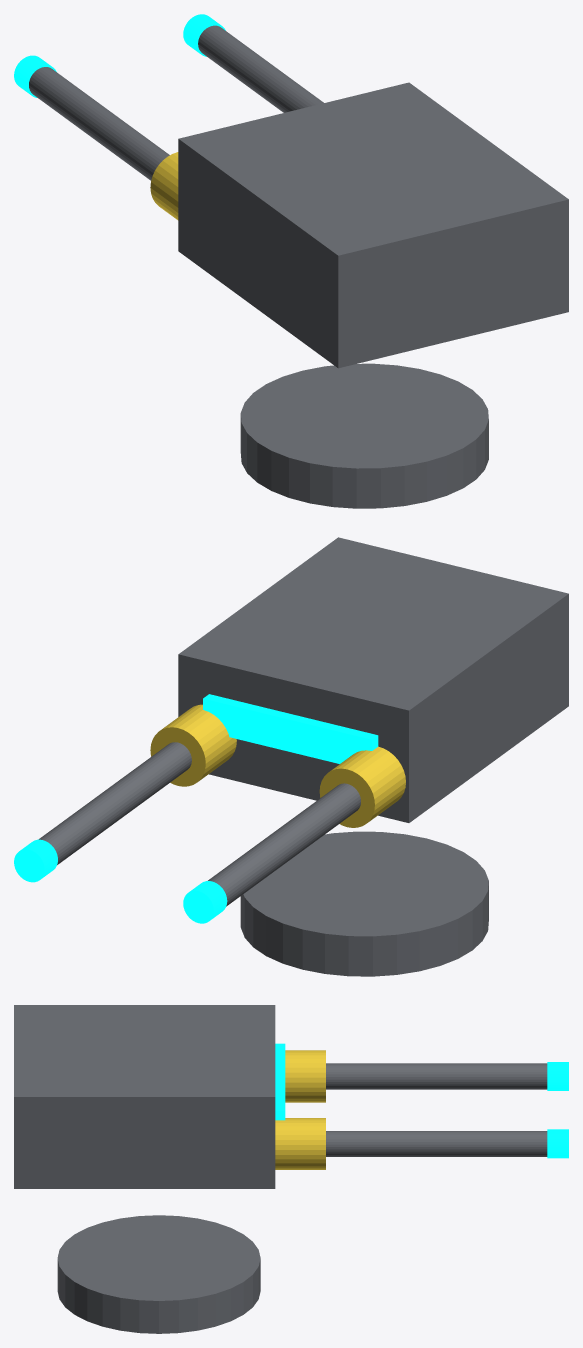
Rendered from mech_bastion_turret.glb.
The picture shows the model from 3 angles, top to bottom: view 1: azimuth 30°, elevation 25°; view 2: azimuth 150°, elevation 25°; view 3: azimuth 270°, elevation 25°; orthographic projection. The views are drawn at different scales.
Parts seen in each view (by area): view 1: Turret_Cockpit, Upper_Turret, Cylinder.001, Cylinder.003, Cylinder, Laser_Muzzle_R, Laser_Muzzle_L; view 2: Turret_Cockpit, Upper_Turret, Visor_Glow, Cylinder.001, Cylinder.003, Cylinder, Cylinder.002, Laser_Muzzle_L, Laser_Muzzle_R; view 3: Turret_Cockpit, Upper_Turret, Cylinder.001, Cylinder.003, Cylinder.002, Cylinder, Visor_Glow, Laser_Muzzle_R, Laser_Muzzle_L.
Boxes of the visible parts, x1=… form: Turret_Cockpit: x1=178, y1=82, x2=568, y2=368; Upper_Turret: x1=240, y1=363, x2=488, y2=508; Cylinder.001: x1=29, y1=67, x2=169, y2=180; Cylinder.003: x1=198, y1=25, x2=323, y2=112; Cylinder: x1=150, y1=152, x2=178, y2=220; Laser_Muzzle_R: x1=183, y1=14, x2=225, y2=56; Laser_Muzzle_L: x1=14, y1=55, x2=56, y2=97; Turret_Cockpit: x1=178, y1=537, x2=568, y2=822; Upper_Turret: x1=240, y1=831, x2=488, y2=976; Visor_Glow: x1=203, y1=694, x2=378, y2=763; Cylinder.001: x1=208, y1=783, x2=360, y2=906; Cylinder.003: x1=38, y1=742, x2=191, y2=864; Cylinder: x1=319, y1=746, x2=405, y2=827; Cylinder.002: x1=150, y1=704, x2=236, y2=786; Laser_Muzzle_L: x1=183, y1=881, x2=227, y2=923; Laser_Muzzle_R: x1=14, y1=839, x2=57, y2=882; Turret_Cockpit: x1=14, y1=1005, x2=275, y2=1188; Upper_Turret: x1=57, y1=1215, x2=260, y2=1333; Cylinder.001: x1=326, y1=1063, x2=547, y2=1089; Cylinder.003: x1=326, y1=1131, x2=547, y2=1156; Cylinder.002: x1=275, y1=1118, x2=325, y2=1169; Cylinder: x1=285, y1=1050, x2=325, y2=1102; Visor_Glow: x1=275, y1=1043, x2=285, y2=1120; Laser_Muzzle_R: x1=547, y1=1129, x2=568, y2=1158; Laser_Muzzle_L: x1=547, y1=1062, x2=568, y2=1090.
Bounding box in the file's own units: 1.5 × 1.83 × 3.82.
